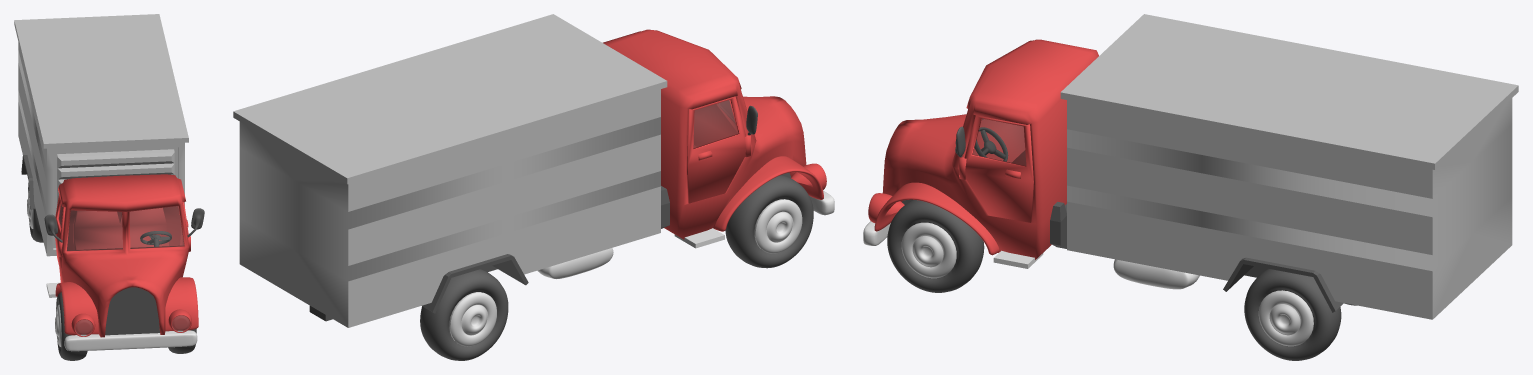
File: truck-3d-animated-icon-828485184025.glb
3 views of the same model, side by side, from view 1: azimuth 30°, elevation 25°; view 2: azimuth 150°, elevation 25°; view 3: azimuth 270°, elevation 25° (orthographic). The views are drawn at different scales.
Parts seen in each view (by area): view 1: container.001, body, lamp, tire.003, door, glass, tire.007, container, controller, tire.005; view 2: container.001, body, tire.003, tire.007, door, container, container.003, iron; view 3: container.001, body, tire.005, tire, door, container.002, container, iron, controller, lamp.
Boxes of the visible parts, box(x1,y1,x2,y2) form: container.001: box(14, 14, 188, 256); body: box(46, 174, 198, 351); lamp: box(71, 309, 191, 336); tire.003: box(55, 292, 87, 360); door: box(55, 194, 188, 271); glass: box(44, 208, 204, 242); tire.007: box(27, 183, 43, 242); container: box(21, 155, 35, 209); controller: box(140, 231, 171, 246); tire.005: box(168, 329, 196, 353); container.001: box(233, 14, 667, 327); body: box(603, 29, 834, 248); tire.003: box(725, 175, 813, 268); tire.007: box(420, 269, 508, 360); door: box(687, 96, 746, 203); container: box(422, 254, 528, 313); container.003: box(537, 248, 613, 279); iron: box(309, 186, 669, 321); container.001: box(1060, 14, 1518, 319); body: box(863, 39, 1098, 268); tire.005: box(887, 200, 984, 292); tire: box(1244, 269, 1341, 360); door: box(964, 115, 1033, 222); container.002: box(1113, 259, 1199, 289); container: box(1223, 257, 1343, 312); iron: box(1050, 201, 1268, 277); controller: box(974, 127, 1007, 161); lamp: box(868, 193, 904, 222).
Size of the model in its own units: 2.84 by 1.69 by 4.25.
